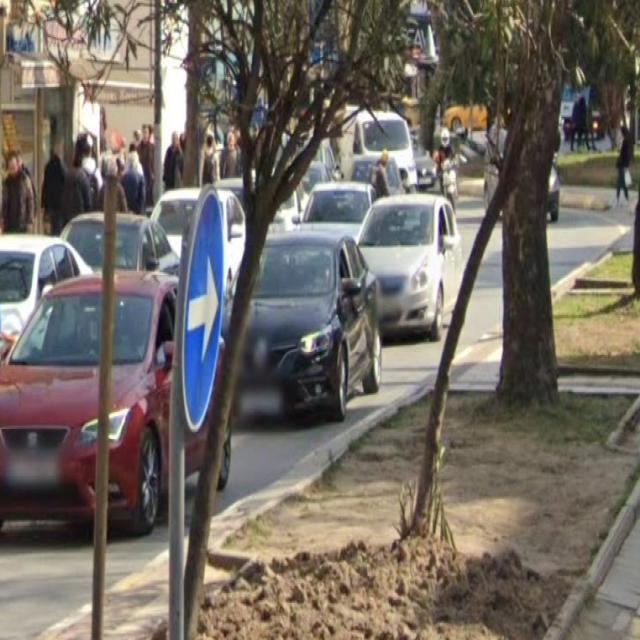Turn Right: (181, 197, 228, 442)
